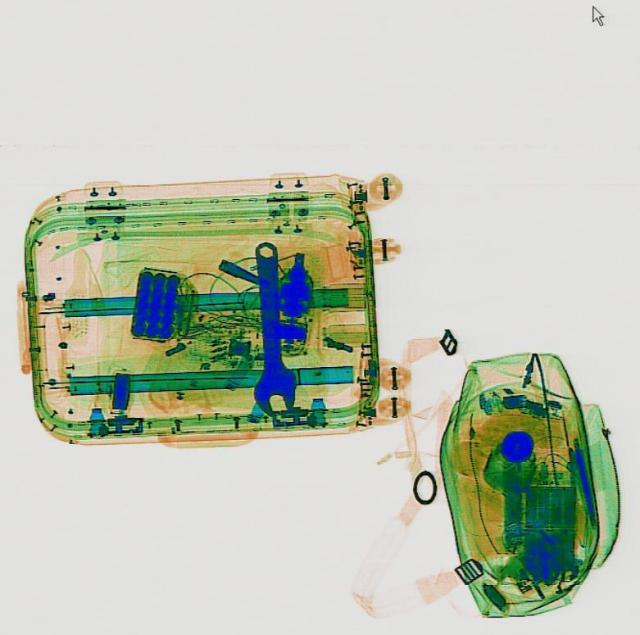Wrench: (243, 240, 299, 421)
